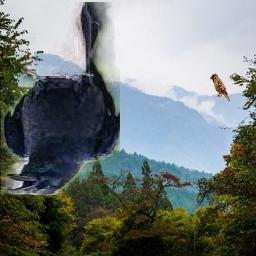Crow: (2, 3, 121, 196)
Sparrow: (210, 74, 230, 103)
